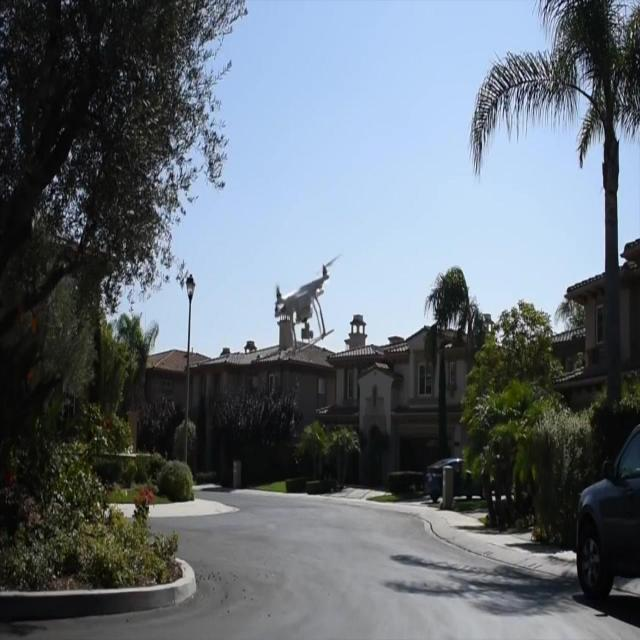UAV: (274, 253, 343, 351)
